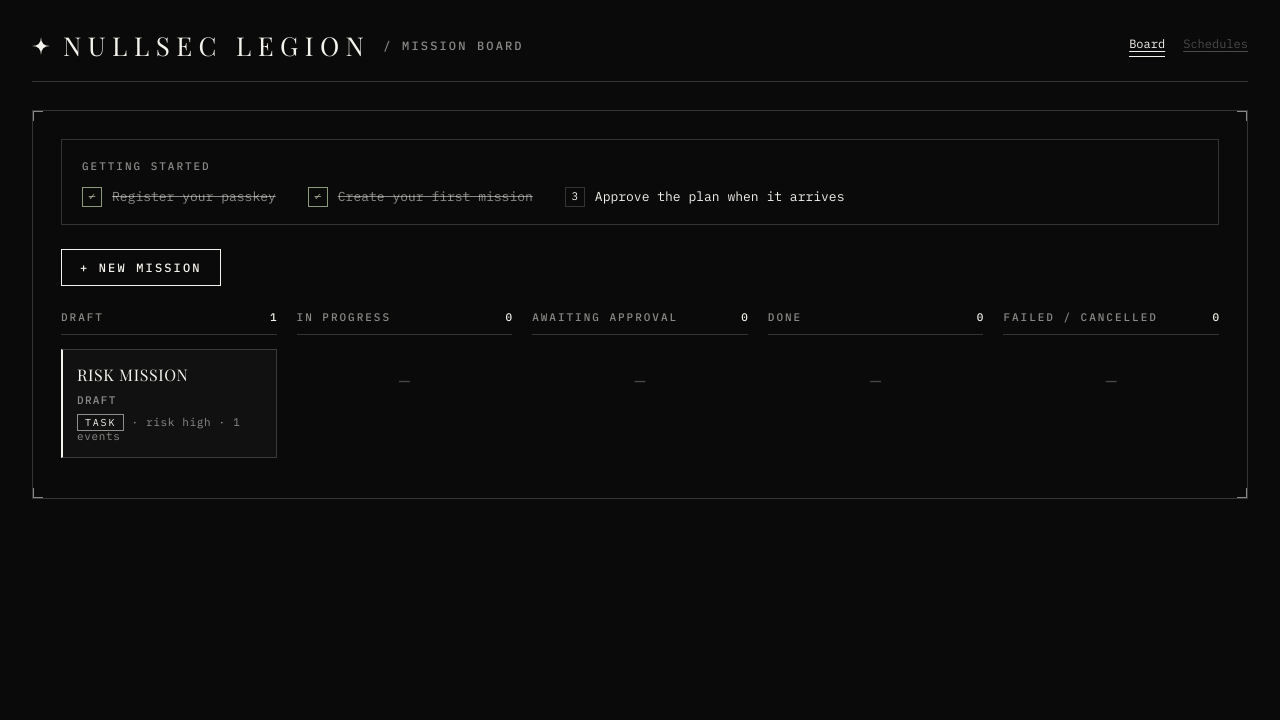
it: T61: risk-policy notices › high-risk detail shows the strict-scan notice
The image size is (1280, 720).
What coordinates should you click on to do the following:
click the button "Risk mission DRAFT task · risk high · 1 events"
I would click on:
 (169, 403)
Its box is [61, 349, 277, 458].
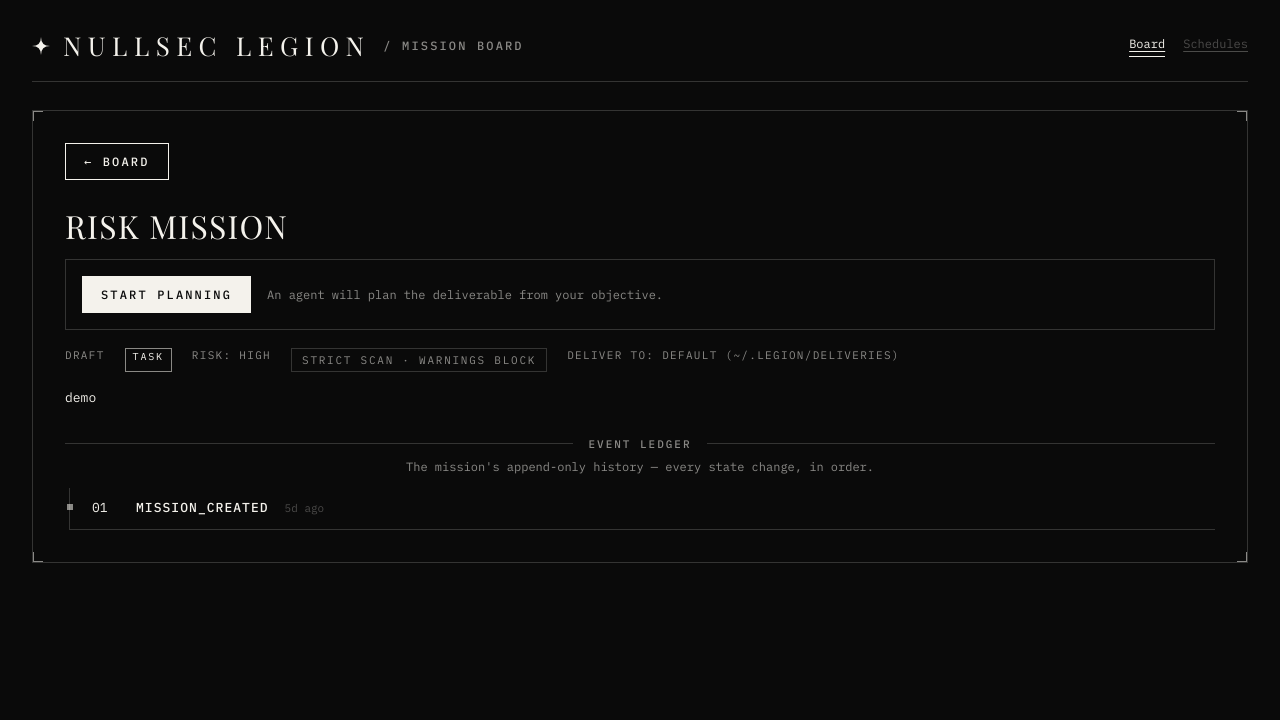
Result: the text "STRICT SCAN · WARNINGS BLOCK" is shown at [291, 348, 547, 372]
